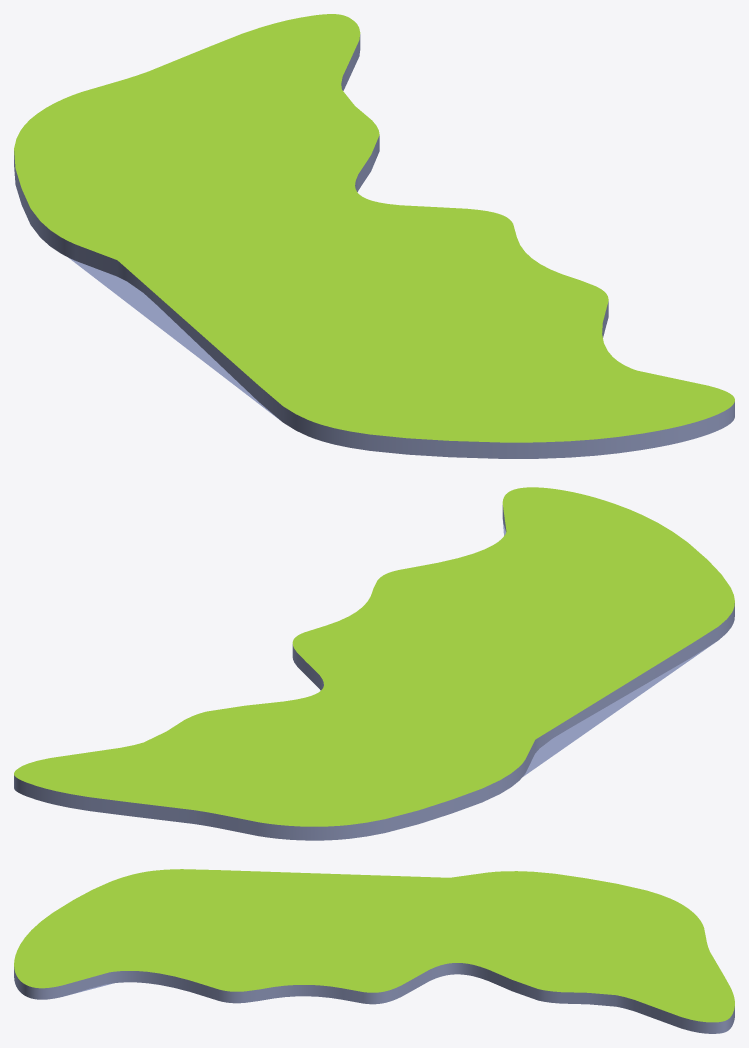
Rendered from Lastholes20.fbx.
The picture shows the model from 3 angles, top to bottom: view 1: azimuth 30°, elevation 25°; view 2: azimuth 150°, elevation 25°; view 3: azimuth 270°, elevation 25°; orthographic projection. The views are drawn at different scales.
Visible parts, largest first — view 1: mainRes_2; view 2: mainRes_2; view 3: mainRes_2.
Part boxes in pixels (x1,y1,x2,y2): mainRes_2: [14, 14, 734, 458]; mainRes_2: [14, 487, 734, 840]; mainRes_2: [14, 869, 734, 1033].
Size of the model in its own units: 859 by 30 by 1707.
